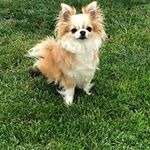puppy: (28, 1, 110, 108)
